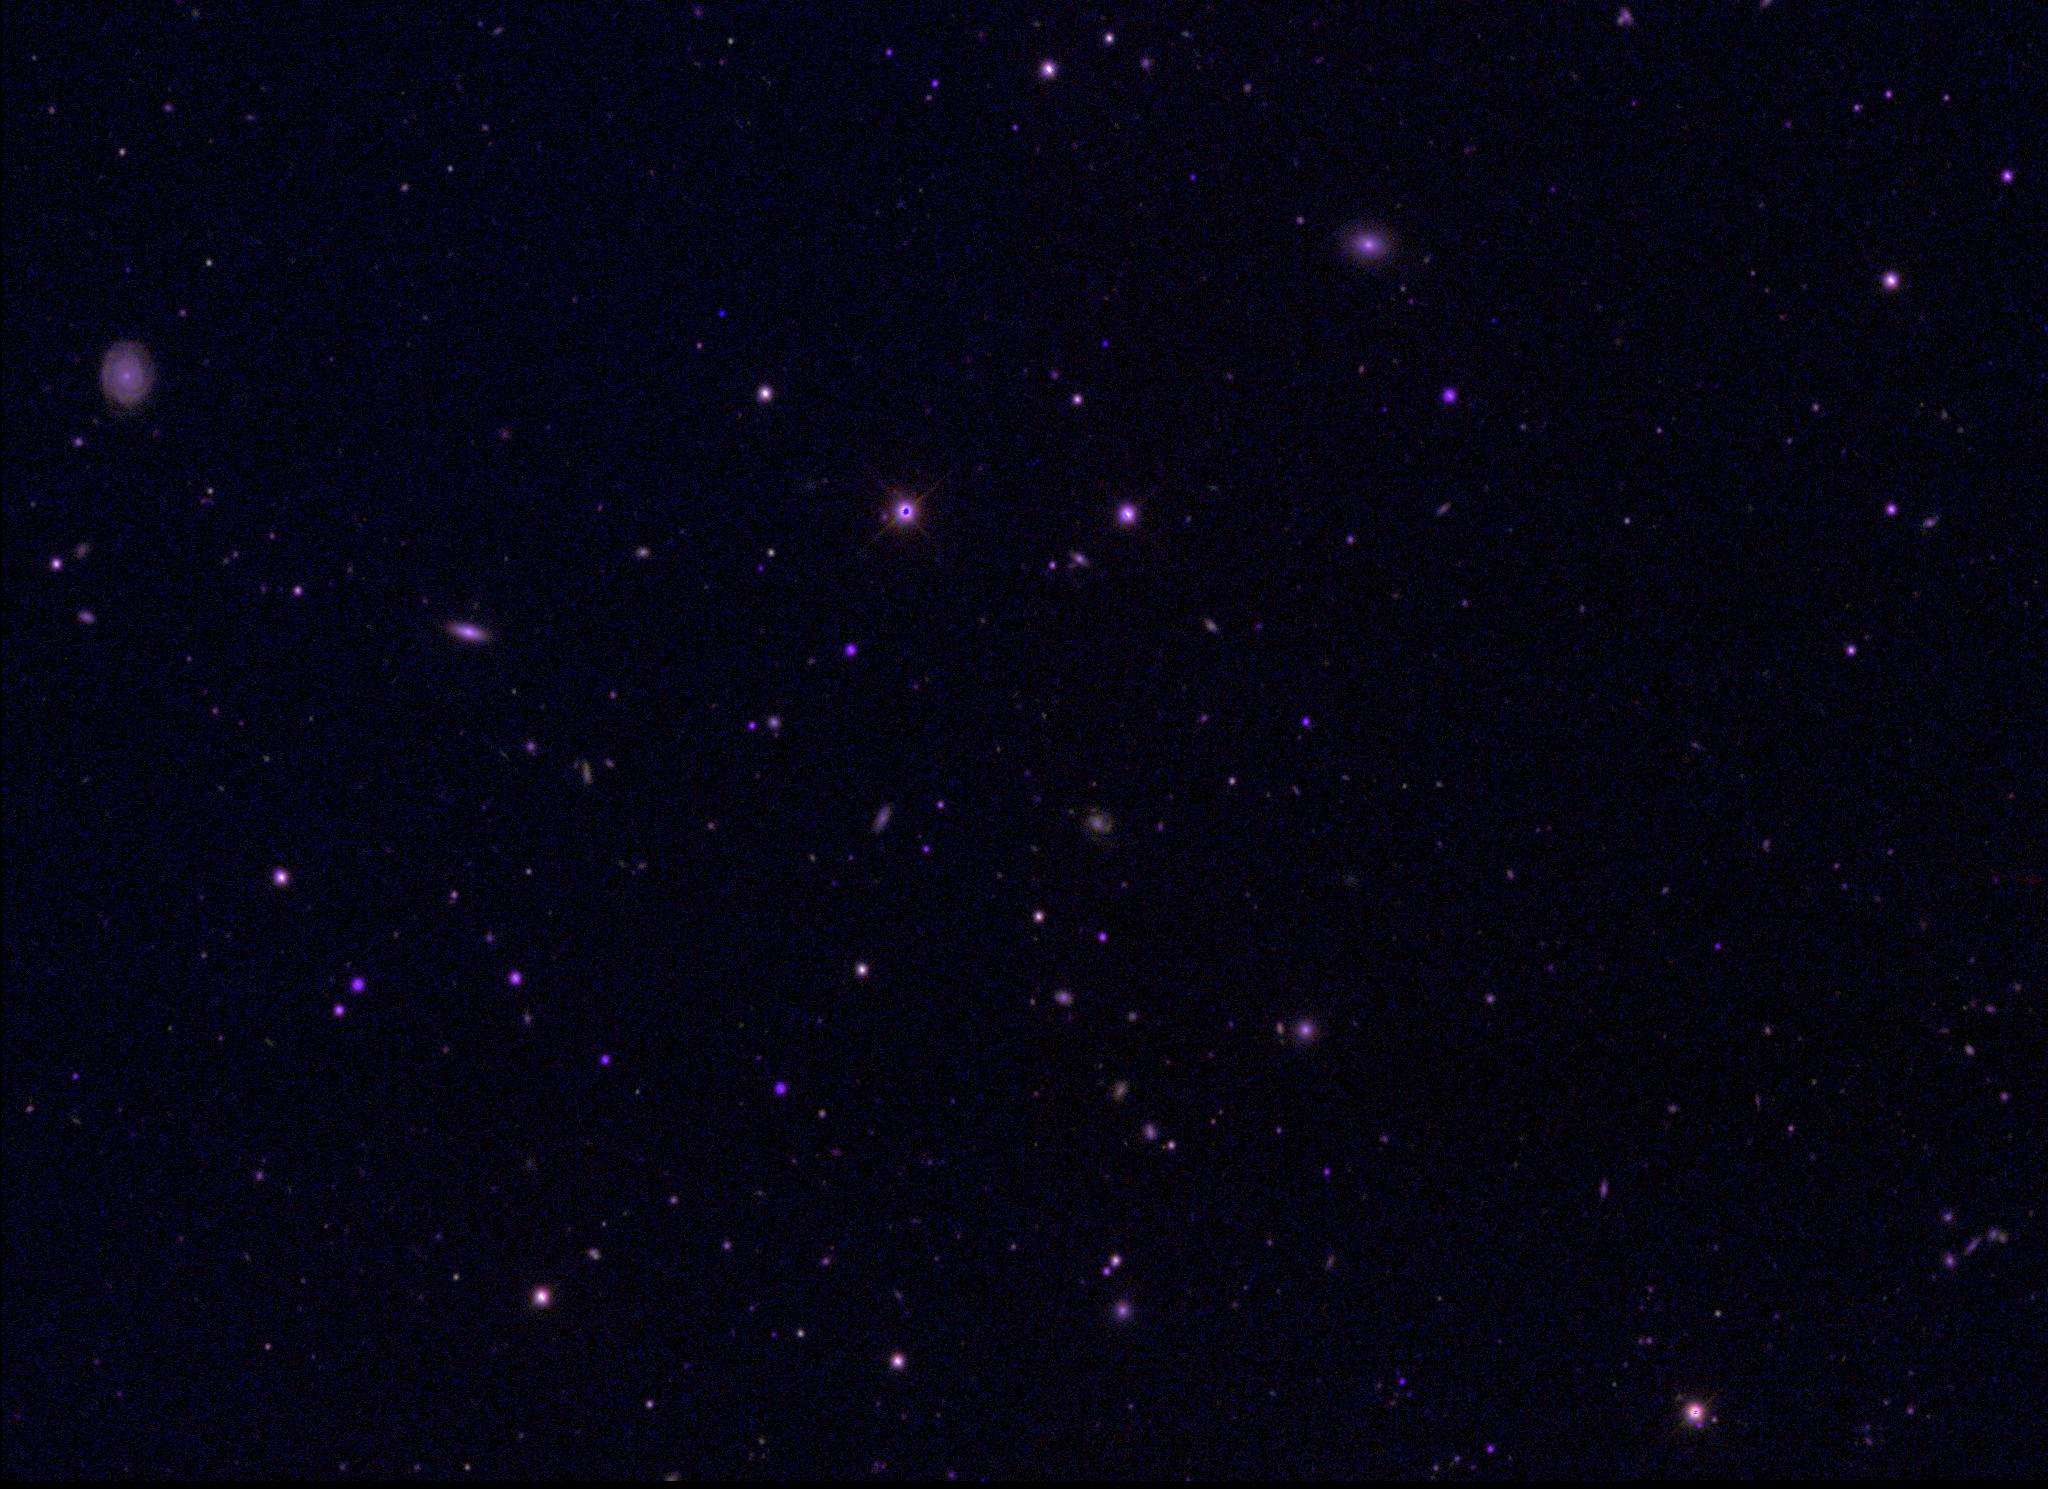L: (716, 307, 728, 321)
